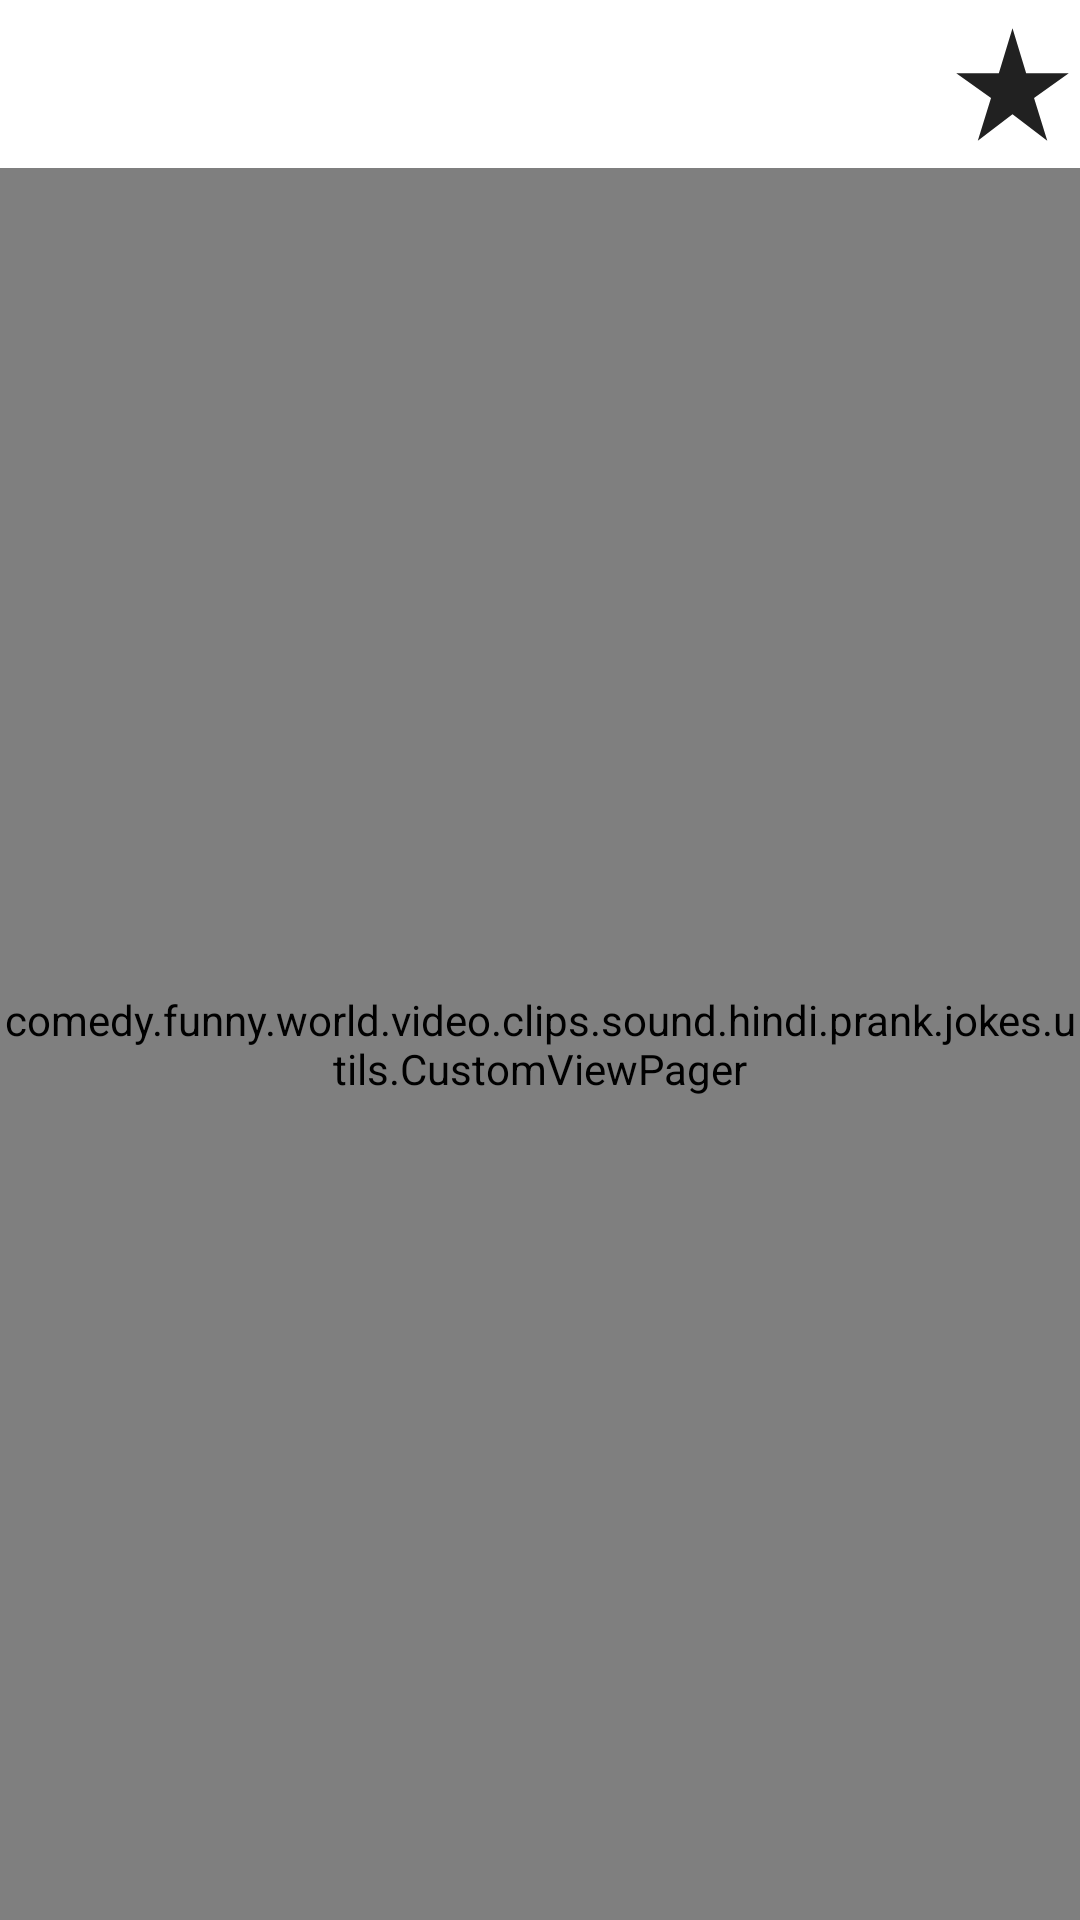

Screen size 1080*1920. Icon name, then its center in pixels as [x,y]:
rate: [1012,84]
